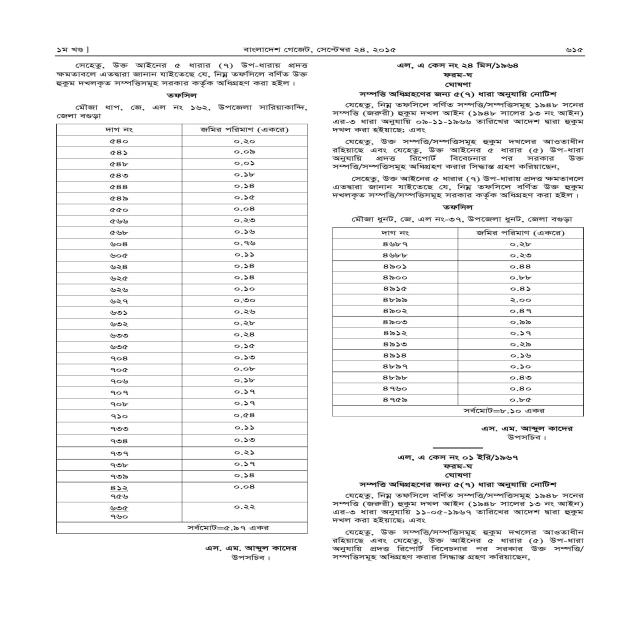page number: (563, 46, 584, 55)
paragraph: (331, 528, 586, 562), (331, 100, 585, 134), (331, 137, 585, 171), (331, 491, 585, 524), (54, 61, 309, 88), (331, 175, 586, 201), (56, 103, 308, 120)
table: (55, 123, 308, 534), (332, 227, 584, 417)
text: (393, 60, 521, 87), (392, 454, 523, 478), (198, 545, 300, 563), (349, 215, 575, 223), (480, 424, 579, 442), (240, 45, 399, 53), (460, 406, 547, 415), (185, 524, 271, 531), (52, 45, 93, 54), (380, 385, 409, 393), (381, 252, 410, 259), (509, 252, 534, 260), (381, 285, 409, 292), (381, 363, 409, 370), (381, 397, 409, 404), (381, 241, 408, 248), (382, 330, 409, 337), (507, 241, 533, 248), (382, 263, 408, 270), (234, 388, 256, 396), (233, 449, 255, 457), (508, 263, 533, 270), (508, 319, 533, 326), (382, 352, 407, 359), (508, 330, 533, 337), (231, 138, 256, 145), (232, 171, 257, 178), (232, 194, 257, 201), (232, 217, 257, 224), (232, 412, 257, 419), (509, 274, 533, 281), (509, 286, 533, 293), (508, 297, 532, 304), (381, 297, 409, 303), (381, 308, 409, 314), (381, 319, 409, 325), (509, 341, 533, 348), (509, 363, 533, 370), (232, 160, 256, 167), (233, 228, 257, 235), (233, 425, 257, 432), (233, 461, 257, 468), (381, 275, 408, 281), (381, 341, 408, 347), (507, 386, 534, 392), (382, 375, 409, 381), (230, 149, 257, 155), (509, 352, 532, 359), (233, 206, 256, 213), (233, 472, 256, 479), (233, 504, 256, 511), (107, 161, 130, 168), (233, 331, 255, 338), (108, 321, 130, 328), (108, 218, 130, 225), (508, 375, 533, 381), (233, 183, 258, 189), (232, 241, 257, 247), (232, 309, 257, 315), (232, 355, 257, 361), (232, 366, 257, 372), (108, 344, 129, 351), (108, 298, 129, 305), (108, 275, 129, 282), (108, 264, 129, 271), (108, 172, 129, 179), (509, 308, 533, 314), (508, 397, 532, 403), (233, 274, 257, 280), (233, 286, 257, 292), (233, 377, 257, 383), (233, 437, 257, 443), (232, 484, 256, 490), (108, 309, 128, 316), (232, 263, 255, 269), (233, 320, 256, 326), (232, 400, 255, 406), (233, 252, 255, 258), (234, 343, 256, 349), (107, 333, 129, 339), (107, 287, 129, 293), (108, 230, 130, 236), (107, 184, 129, 190), (109, 138, 130, 144), (108, 505, 129, 511), (109, 462, 130, 468), (109, 451, 130, 457), (109, 401, 130, 407), (109, 378, 130, 384), (108, 253, 129, 259), (108, 241, 129, 247), (232, 298, 257, 303), (109, 514, 129, 520), (110, 494, 130, 500), (109, 485, 129, 491), (110, 438, 130, 444), (110, 426, 130, 432), (109, 413, 129, 419), (109, 390, 129, 396), (109, 367, 129, 373), (109, 355, 129, 361), (109, 207, 129, 213), (109, 196, 129, 202), (109, 150, 129, 156), (109, 474, 129, 479)
title: (356, 480, 560, 490), (356, 90, 562, 99), (474, 229, 566, 238), (196, 126, 291, 133), (163, 91, 201, 99), (441, 203, 474, 212), (102, 126, 136, 134), (380, 230, 410, 237)
